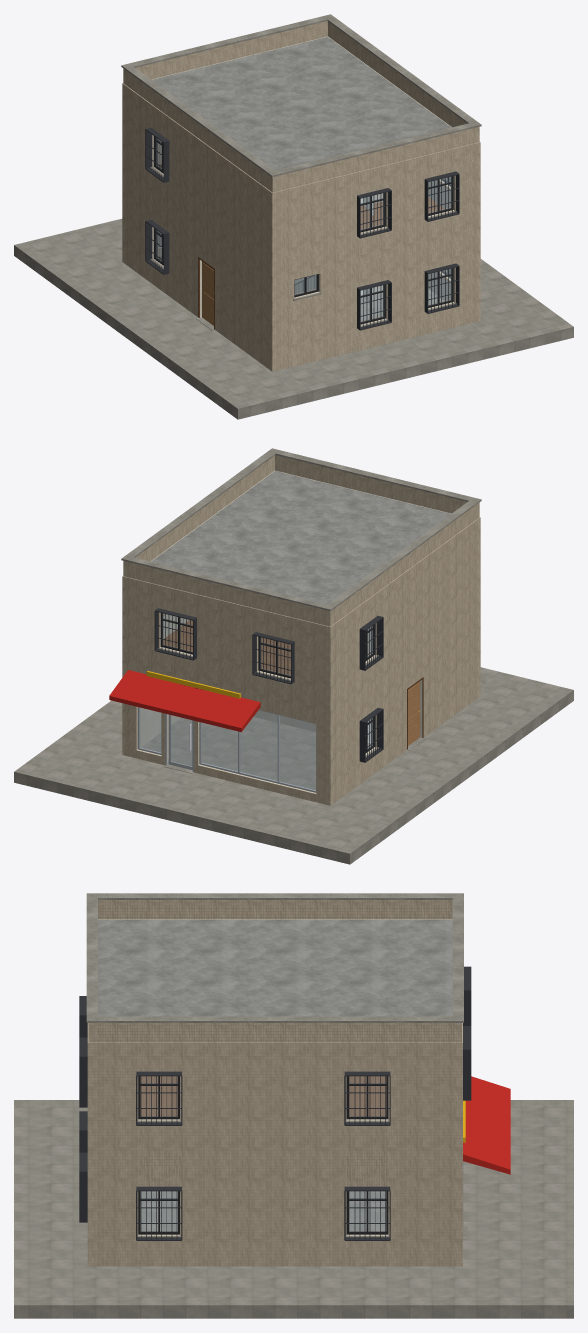
Rendered from b_bento_shop.gltf.
The picture shows the model from 3 angles, top to bottom: view 1: azimuth 30°, elevation 25°; view 2: azimuth 150°, elevation 25°; view 3: azimuth 270°, elevation 25°; orthographic projection. The views are drawn at different scales.
Visible parts, largest first — view 1: S_bento_shop, D_bento_shop_F1_E1_Door0; view 2: S_bento_shop, D_bento_shop_F1_S2_Door0, D_bento_shop_F1_E1_Door0; view 3: S_bento_shop.
Part boxes in pixels (box(x1,y1,x2,y2)): S_bento_shop: box(14, 14, 573, 419); D_bento_shop_F1_E1_Door0: box(202, 261, 213, 325); S_bento_shop: box(14, 448, 573, 864); D_bento_shop_F1_S2_Door0: box(168, 714, 192, 769); D_bento_shop_F1_E1_Door0: box(408, 681, 420, 745); S_bento_shop: box(14, 893, 573, 1318).
Size of the model in its own units: 13 by 7.66 by 15.
21 materials, 11 textured.
